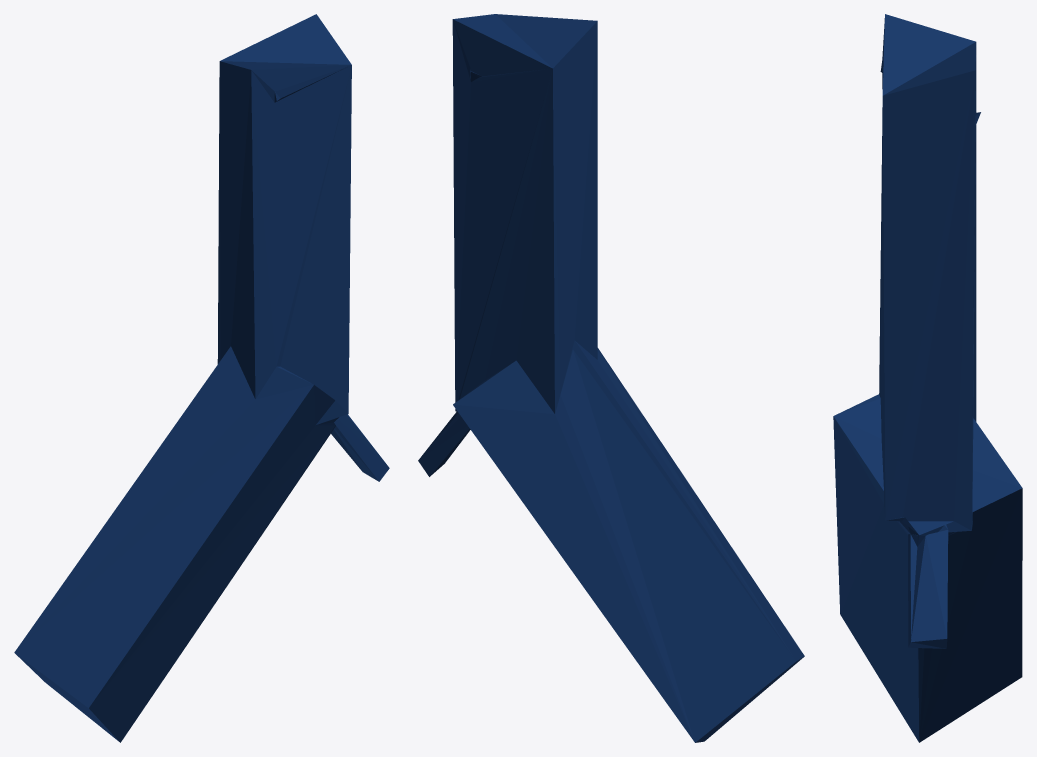
3 renders of one model, left to right at view 1: azimuth 30°, elevation 25°; view 2: azimuth 150°, elevation 25°; view 3: azimuth 270°, elevation 25°, orthographic. The views are drawn at different scales.
Parts seen in each view (by area): view 1: 291_Cube.1187; view 2: 291_Cube.1187; view 3: 291_Cube.1187.
Part boxes in pixels (x1,y1,x2,y2): 291_Cube.1187: [14, 14, 389, 742]; 291_Cube.1187: [418, 14, 804, 742]; 291_Cube.1187: [833, 14, 1022, 742].
Size of the model in its own units: 12.53 by 21.71 by 4.64.
